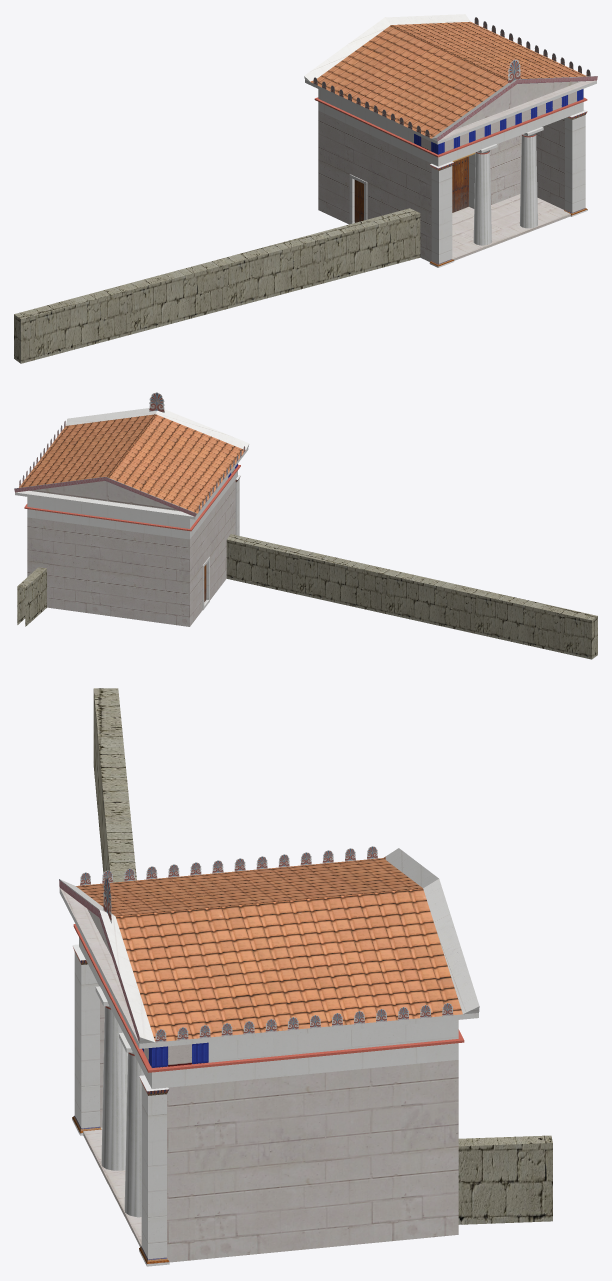
Rendered from arrephorion.fbx.
3 renders of one model, top to bottom at view 1: azimuth 30°, elevation 25°; view 2: azimuth 150°, elevation 25°; view 3: azimuth 270°, elevation 25°, orthographic. The views are drawn at different scales.
Parts seen in each view (by area): view 1: Model; view 2: Model; view 3: Model.
Part boxes in pixels (x1=…): Model: x1=14, y1=14, x2=597, y2=363; Model: x1=14, y1=392, x2=597, y2=659; Model: x1=59, y1=688, x2=552, y2=1266.
Bounding box in the file's own units: 32258 × 9408 × 13286.
